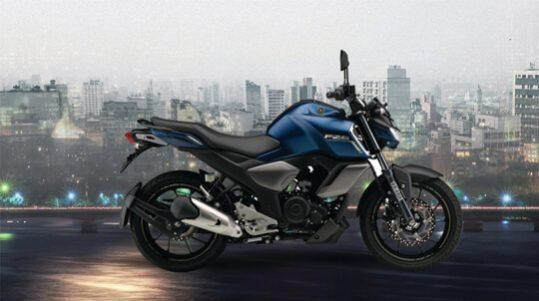motorbike: (117, 49, 463, 271)
